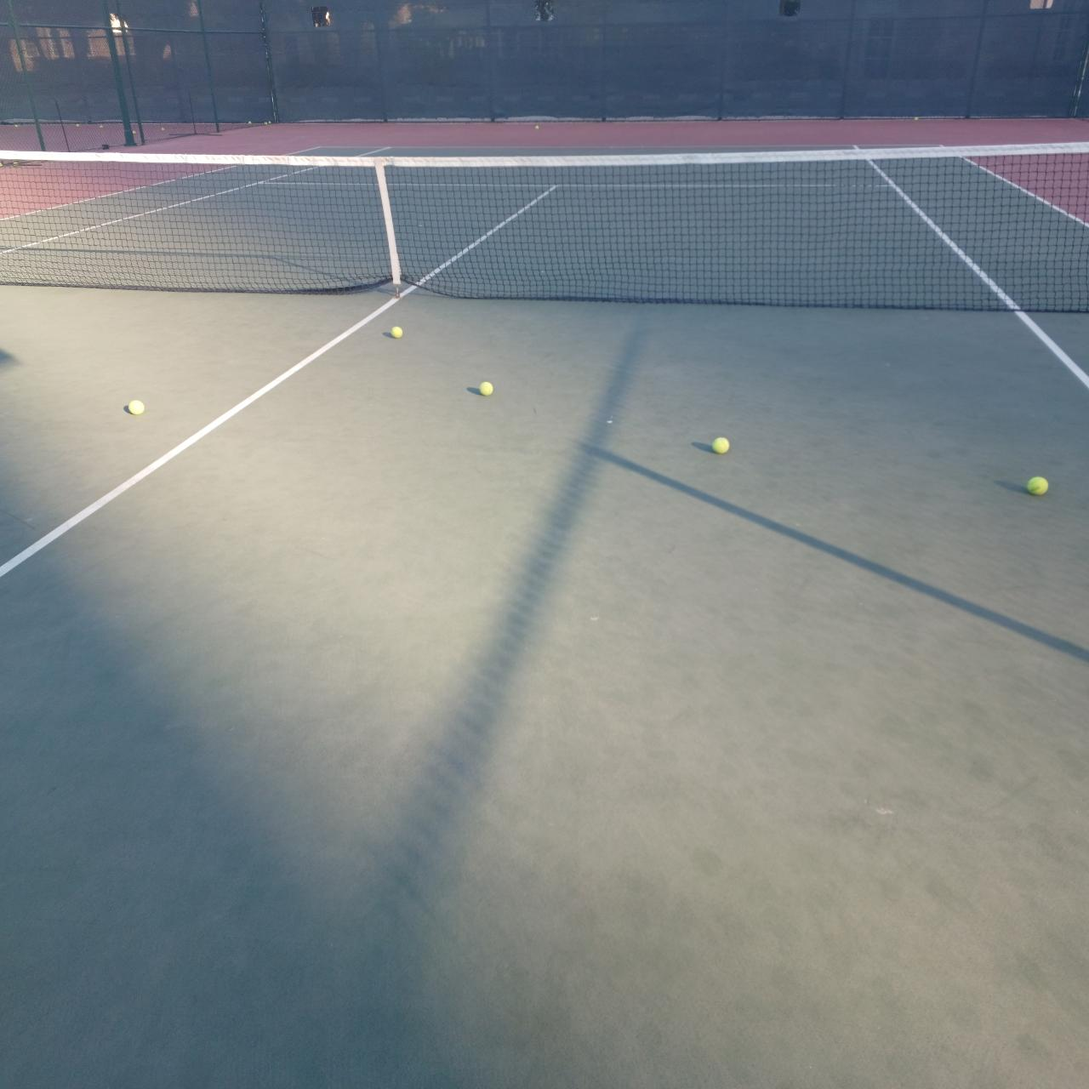tennis-ball: (1025, 473, 1048, 495), (711, 437, 730, 455), (128, 400, 145, 415), (478, 382, 493, 396), (392, 326, 403, 339), (535, 125, 539, 130), (914, 117, 919, 121)
